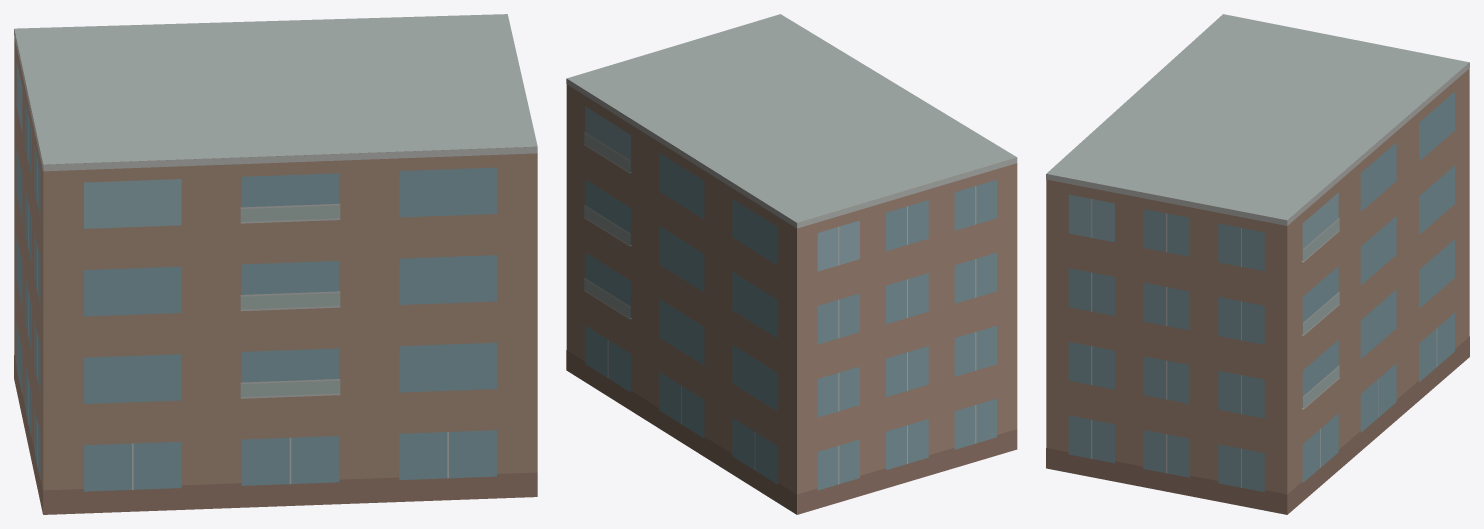
The model's file is survey-upis-32706410.glb.
3 renders of one model, left to right at view 1: azimuth 30°, elevation 25°; view 2: azimuth 150°, elevation 25°; view 3: azimuth 270°, elevation 25°, orthographic. The views are drawn at different scales.
Parts seen in each view (by area): view 1: survey-upis-32706410.tmp; view 2: survey-upis-32706410.tmp; view 3: survey-upis-32706410.tmp.
Part boxes in pixels (x1,y1,x2,y2): survey-upis-32706410.tmp: [14, 14, 537, 514]; survey-upis-32706410.tmp: [566, 14, 1017, 514]; survey-upis-32706410.tmp: [1046, 14, 1469, 514].
Bounding box in the file's own units: 18.93 × 12.6 × 16.43.
